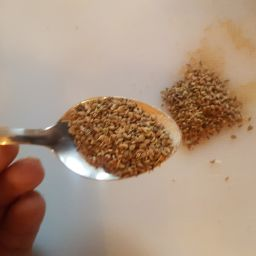Ajwain: (34, 80, 188, 194), (149, 50, 256, 193)
